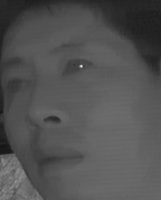eye: (60, 58, 96, 80), (4, 76, 32, 95)
mouth: (30, 142, 82, 175)
